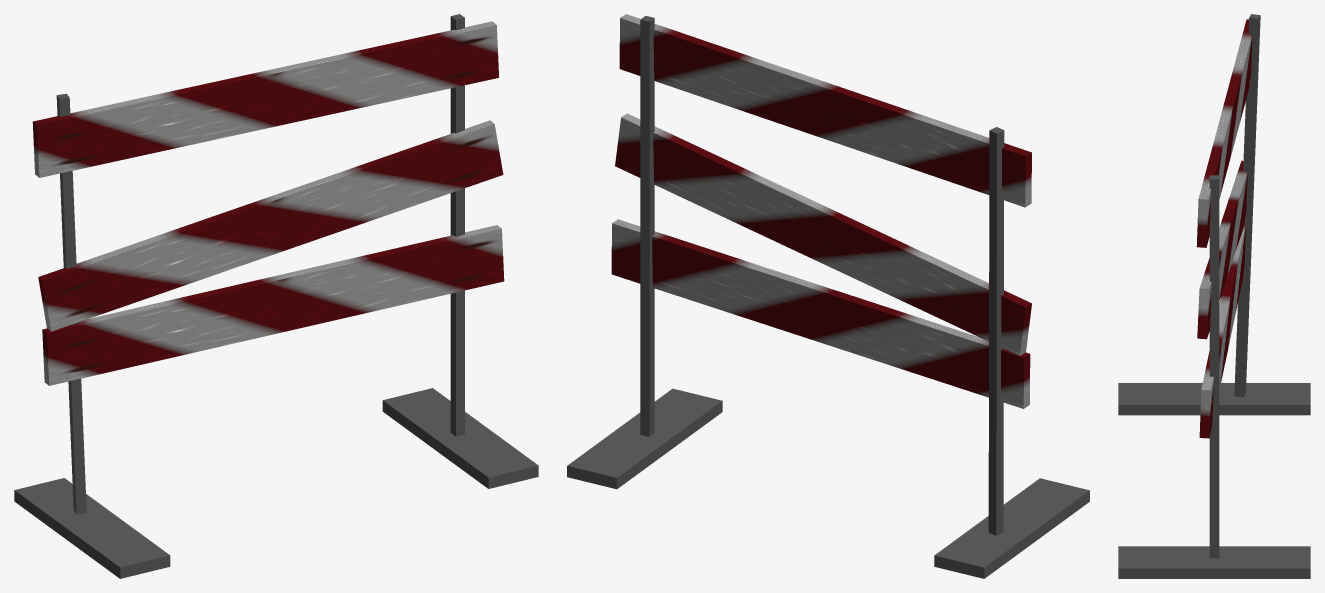
The model's file is WarningBoard.fbx.
3 views of the same model, side by side, from view 1: azimuth 30°, elevation 25°; view 2: azimuth 150°, elevation 25°; view 3: azimuth 270°, elevation 25° (orthographic). The views are drawn at different scales.
Visible parts, largest first — view 1: Cube.003, Cube.002, Cube.004, Cube.005, Cube.006, Cube.001, Cube; view 2: Cube.003, Cube.004, Cube.002, Cube.005, Cube.006, Cube.001, Cube; view 3: Cube.006, Cube.005, Cube.001, Cube, Cube.002, Cube.003, Cube.004.
Part boxes in pixels (box(x1,y1,x2,y2)): Cube.003: box(38, 120, 503, 331); Cube.002: box(32, 21, 498, 177); Cube.004: box(42, 225, 504, 385); Cube.005: box(14, 478, 170, 578); Cube.006: box(382, 388, 538, 488); Cube.001: box(450, 14, 464, 436); Cube: box(56, 93, 86, 514); Cube.003: box(615, 113, 1031, 355); Cube.004: box(611, 219, 1030, 408); Cube.002: box(619, 14, 1031, 207); Cube.005: box(934, 478, 1089, 578); Cube.006: box(567, 388, 722, 489); Cube.001: box(640, 16, 654, 436); Cube: box(988, 127, 1004, 535); Cube.006: box(1118, 546, 1310, 578); Cube.005: box(1118, 383, 1310, 415); Cube.001: box(1209, 175, 1219, 558); Cube: box(1234, 14, 1260, 397); Cube.002: box(1196, 19, 1252, 247); Cube.003: box(1197, 160, 1247, 339); Cube.004: box(1199, 224, 1245, 438).
Bounding box in the file's own units: 482 × 446 × 200.
2 materials, 1 textured.
